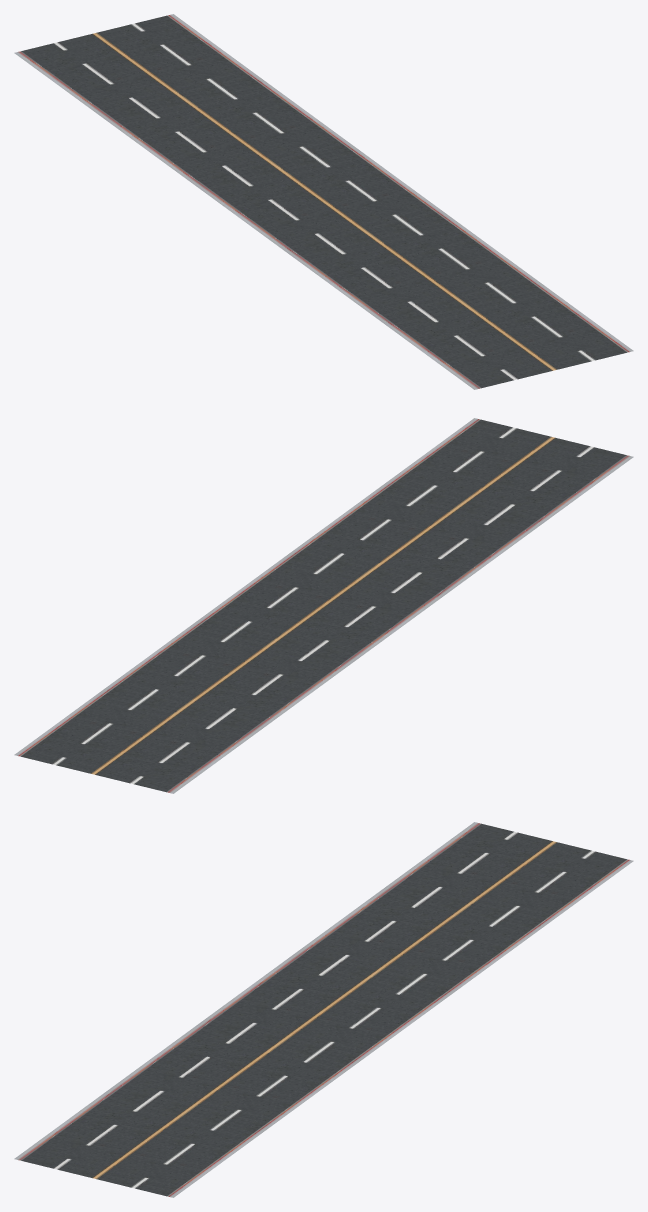
File: road_with_lights.gltf
3 renders of one model, top to bottom at view 1: azimuth 30°, elevation 25°; view 2: azimuth 150°, elevation 25°; view 3: azimuth 330°, elevation 25°, orthographic.
Parts seen in each view (by area): view 1: Grid; view 2: Grid; view 3: Grid.
Boxes of the visible parts, box(x1,y1,x2,y2) form: Grid: box(14, 14, 633, 389); Grid: box(14, 418, 633, 793); Grid: box(14, 822, 633, 1197).
Size of the model in its own units: 24.52 by 0 by 123.
Materials: 1 (1 with a texture image).
